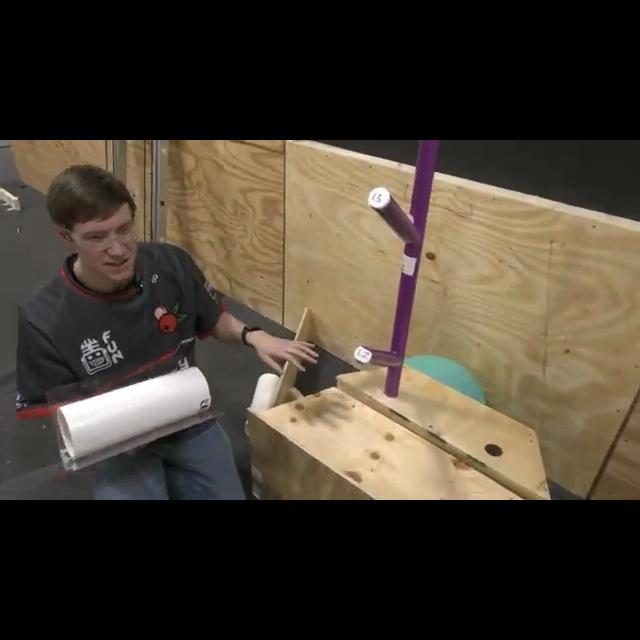CORAL: (54, 364, 214, 470)
